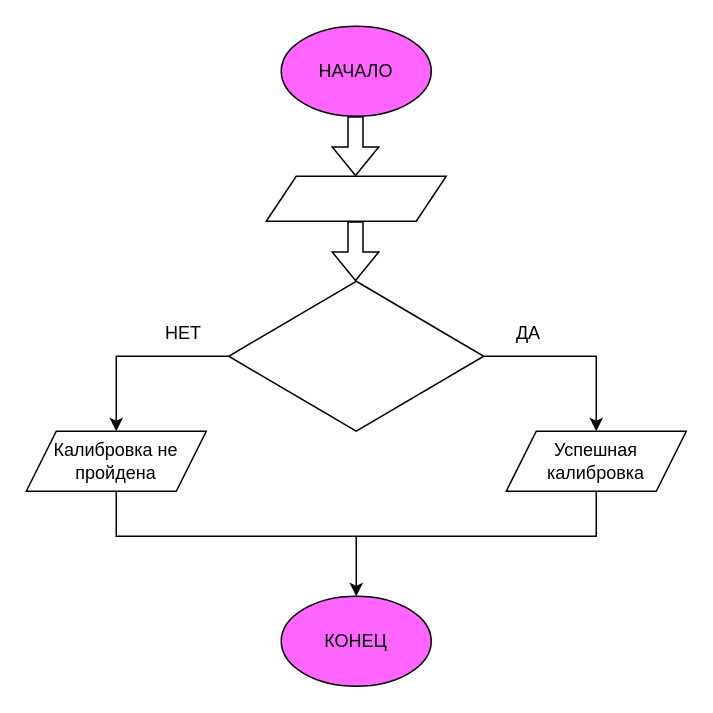
The diagram is 713 pixels wide and 713 high, and some of its shapes have lost their labels. Here are the shapes that lost their labels. From the top down, the box of each, then its label:
(265, 175, 446, 221): a, b, c
(227, 280, 484, 431): a%3==0 && b%3==0 && c%3==0
